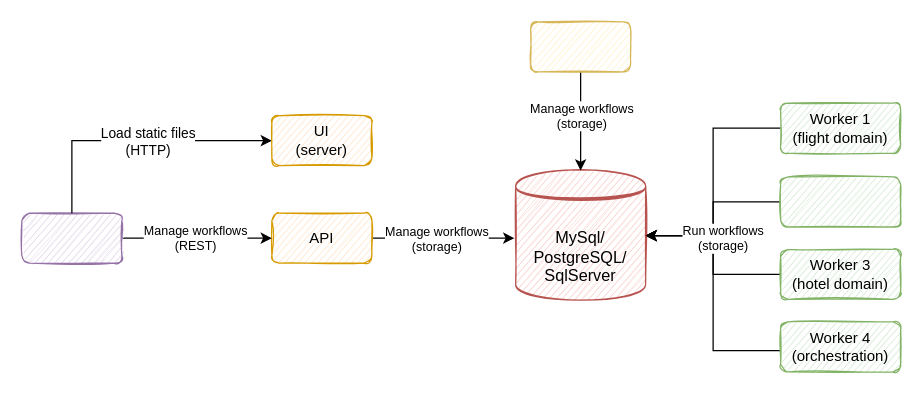
This 923x394 diagram has some shape labels left out. Here are the shapes that lost their labels. From the top down, the box of each, then its label:
(529, 21, 631, 72): Other API
(779, 176, 901, 227): Worker 2 (car domain)
(21, 212, 122, 263): UI (browser)
